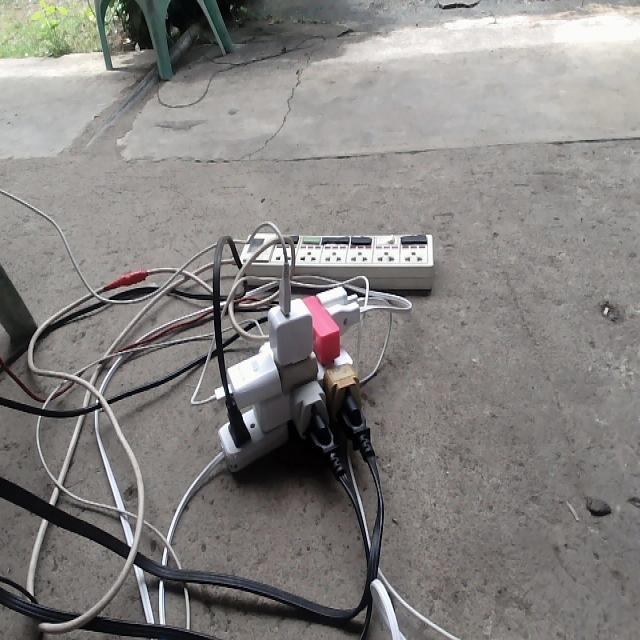-: (208, 277, 376, 473)
